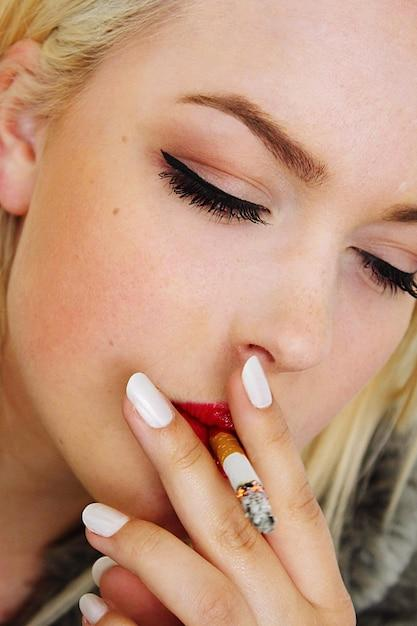cigarette: (209, 431, 275, 533)
